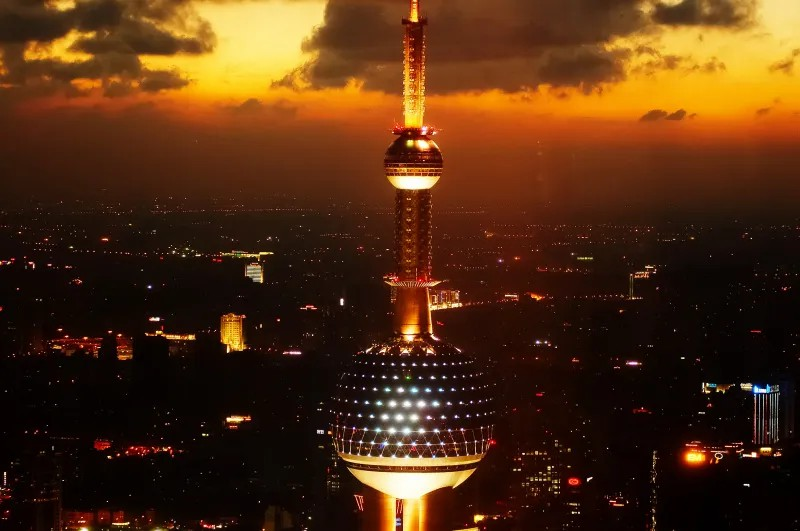Oriental: (331, 1, 497, 531)
